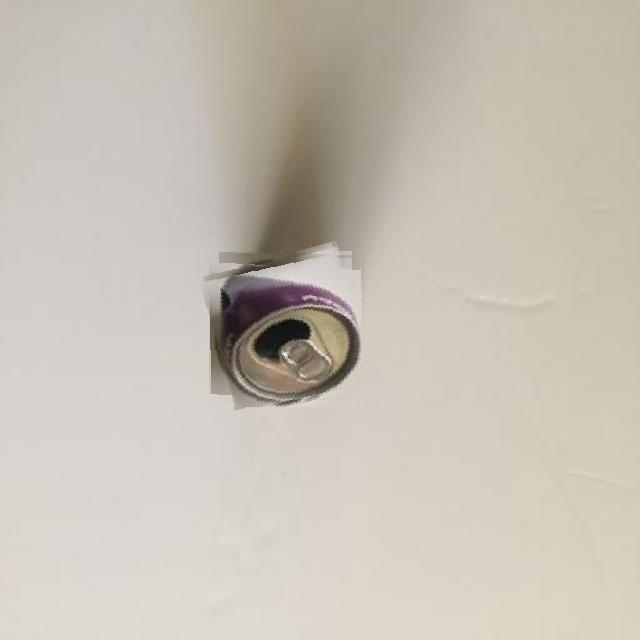recyclable: (206, 248, 365, 407)
